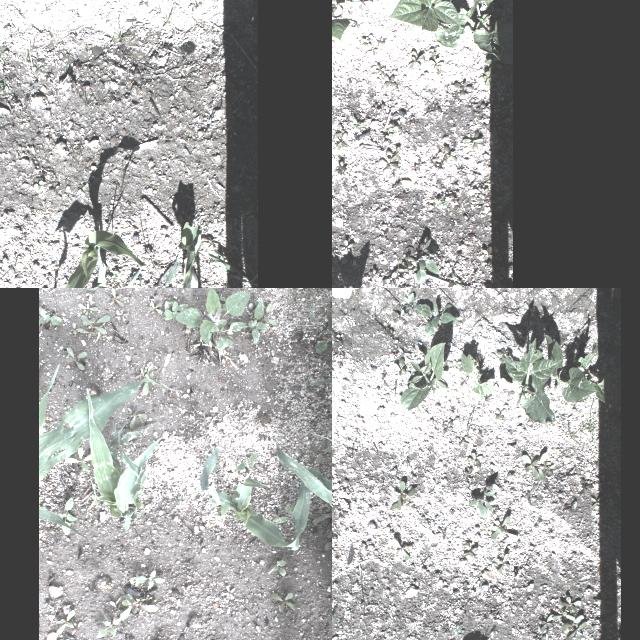crop: (38, 363, 184, 481), (199, 448, 311, 550), (86, 387, 164, 531), (276, 377, 332, 536), (33, 230, 146, 288), (498, 338, 562, 424), (544, 335, 614, 403), (387, 0, 473, 46), (165, 221, 210, 288), (400, 342, 444, 408), (464, 0, 506, 58), (197, 250, 257, 288), (38, 508, 92, 546), (460, 352, 492, 400), (332, 0, 356, 41)
weed: (174, 288, 250, 352), (413, 301, 457, 337), (406, 239, 440, 283), (520, 452, 554, 481), (118, 594, 156, 618), (108, 12, 136, 44), (248, 299, 268, 343), (390, 480, 418, 510), (54, 496, 76, 534), (210, 489, 240, 516), (468, 489, 496, 517), (78, 314, 109, 338), (552, 596, 582, 620), (315, 311, 332, 352), (490, 515, 518, 539), (560, 614, 585, 640), (95, 614, 122, 638), (135, 363, 155, 395), (64, 446, 90, 470), (308, 438, 332, 464), (38, 304, 62, 326), (587, 406, 599, 448), (234, 452, 260, 471), (66, 347, 86, 371), (164, 300, 188, 320), (56, 608, 74, 634), (566, 422, 588, 443), (136, 570, 164, 586), (461, 131, 483, 151), (77, 292, 97, 314), (272, 592, 296, 610), (126, 407, 146, 428), (274, 504, 294, 524), (260, 303, 278, 325), (392, 354, 410, 376), (391, 539, 409, 559), (429, 370, 446, 390), (399, 262, 418, 278), (379, 156, 397, 172), (454, 80, 472, 96), (268, 560, 286, 576), (301, 298, 315, 318), (496, 554, 510, 574), (338, 238, 354, 254), (442, 146, 458, 162), (408, 52, 424, 68), (446, 271, 461, 288), (382, 270, 396, 288), (287, 288, 305, 302), (540, 614, 554, 632), (400, 292, 414, 310), (289, 288, 316, 297), (479, 70, 493, 86), (386, 146, 400, 162), (332, 132, 346, 148), (463, 542, 477, 558), (466, 452, 482, 466), (494, 347, 508, 363), (110, 288, 121, 307), (520, 491, 536, 504), (148, 300, 162, 314), (392, 308, 406, 322), (334, 124, 350, 136), (108, 600, 124, 612), (351, 116, 364, 130), (352, 0, 371, 9), (436, 196, 450, 208), (430, 57, 444, 69), (474, 186, 488, 198), (115, 308, 129, 320), (198, 411, 210, 425), (590, 496, 604, 508), (442, 418, 452, 434), (482, 246, 493, 260), (384, 75, 396, 87), (222, 586, 234, 598), (69, 322, 81, 334), (318, 306, 330, 318), (388, 125, 399, 138), (336, 160, 346, 174), (322, 293, 332, 307), (592, 622, 606, 632), (455, 436, 469, 446), (130, 570, 138, 586), (34, 180, 44, 192), (375, 62, 385, 74), (91, 493, 101, 505), (138, 504, 150, 514), (452, 624, 464, 634), (436, 527, 446, 539), (398, 348, 410, 358), (443, 354, 453, 366), (0, 77, 7, 92), (428, 51, 438, 61), (462, 467, 472, 477), (495, 409, 505, 419), (369, 268, 376, 282), (134, 0, 147, 7), (0, 44, 6, 59), (485, 58, 491, 72), (416, 157, 422, 171), (112, 270, 120, 280), (360, 38, 370, 46), (335, 0, 343, 10), (172, 494, 182, 502), (213, 460, 219, 472), (419, 518, 428, 526), (408, 472, 417, 480), (456, 360, 462, 372), (379, 104, 385, 115), (372, 104, 380, 112), (588, 587, 598, 593), (256, 624, 260, 632), (62, 405, 70, 409), (125, 296, 129, 302), (506, 431, 516, 433), (223, 432, 227, 436)
